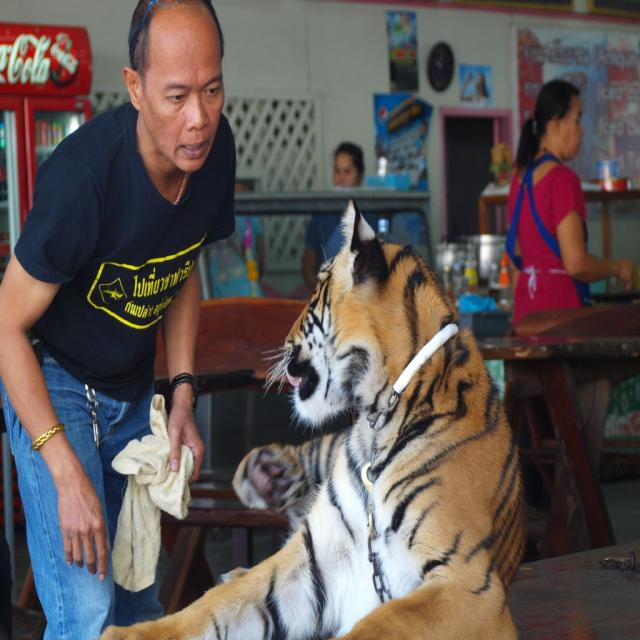Tiger: (97, 193, 531, 640)
